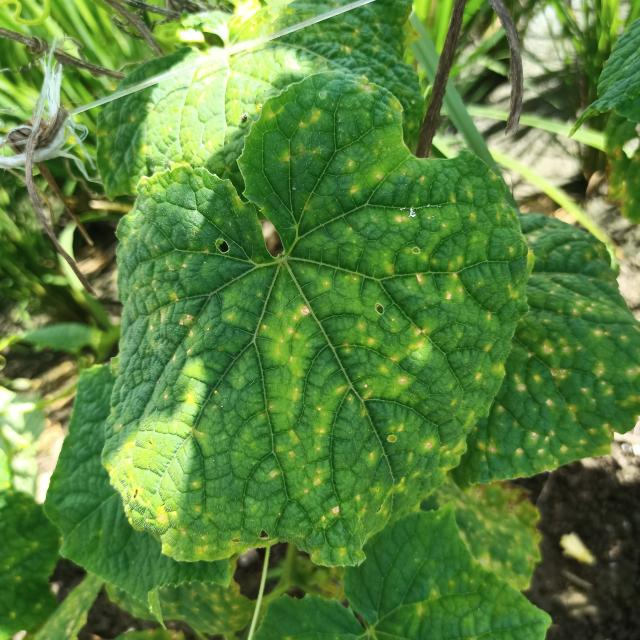disease_cucumber: (114, 78, 524, 555), (497, 207, 640, 480)
